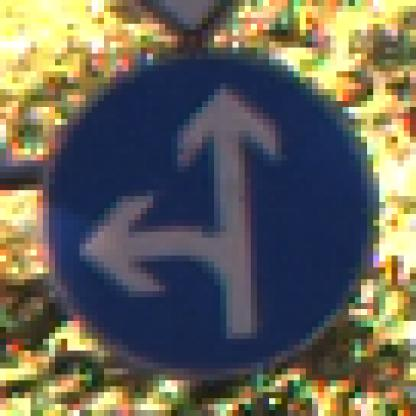Straight or Left: (38, 43, 380, 381)
